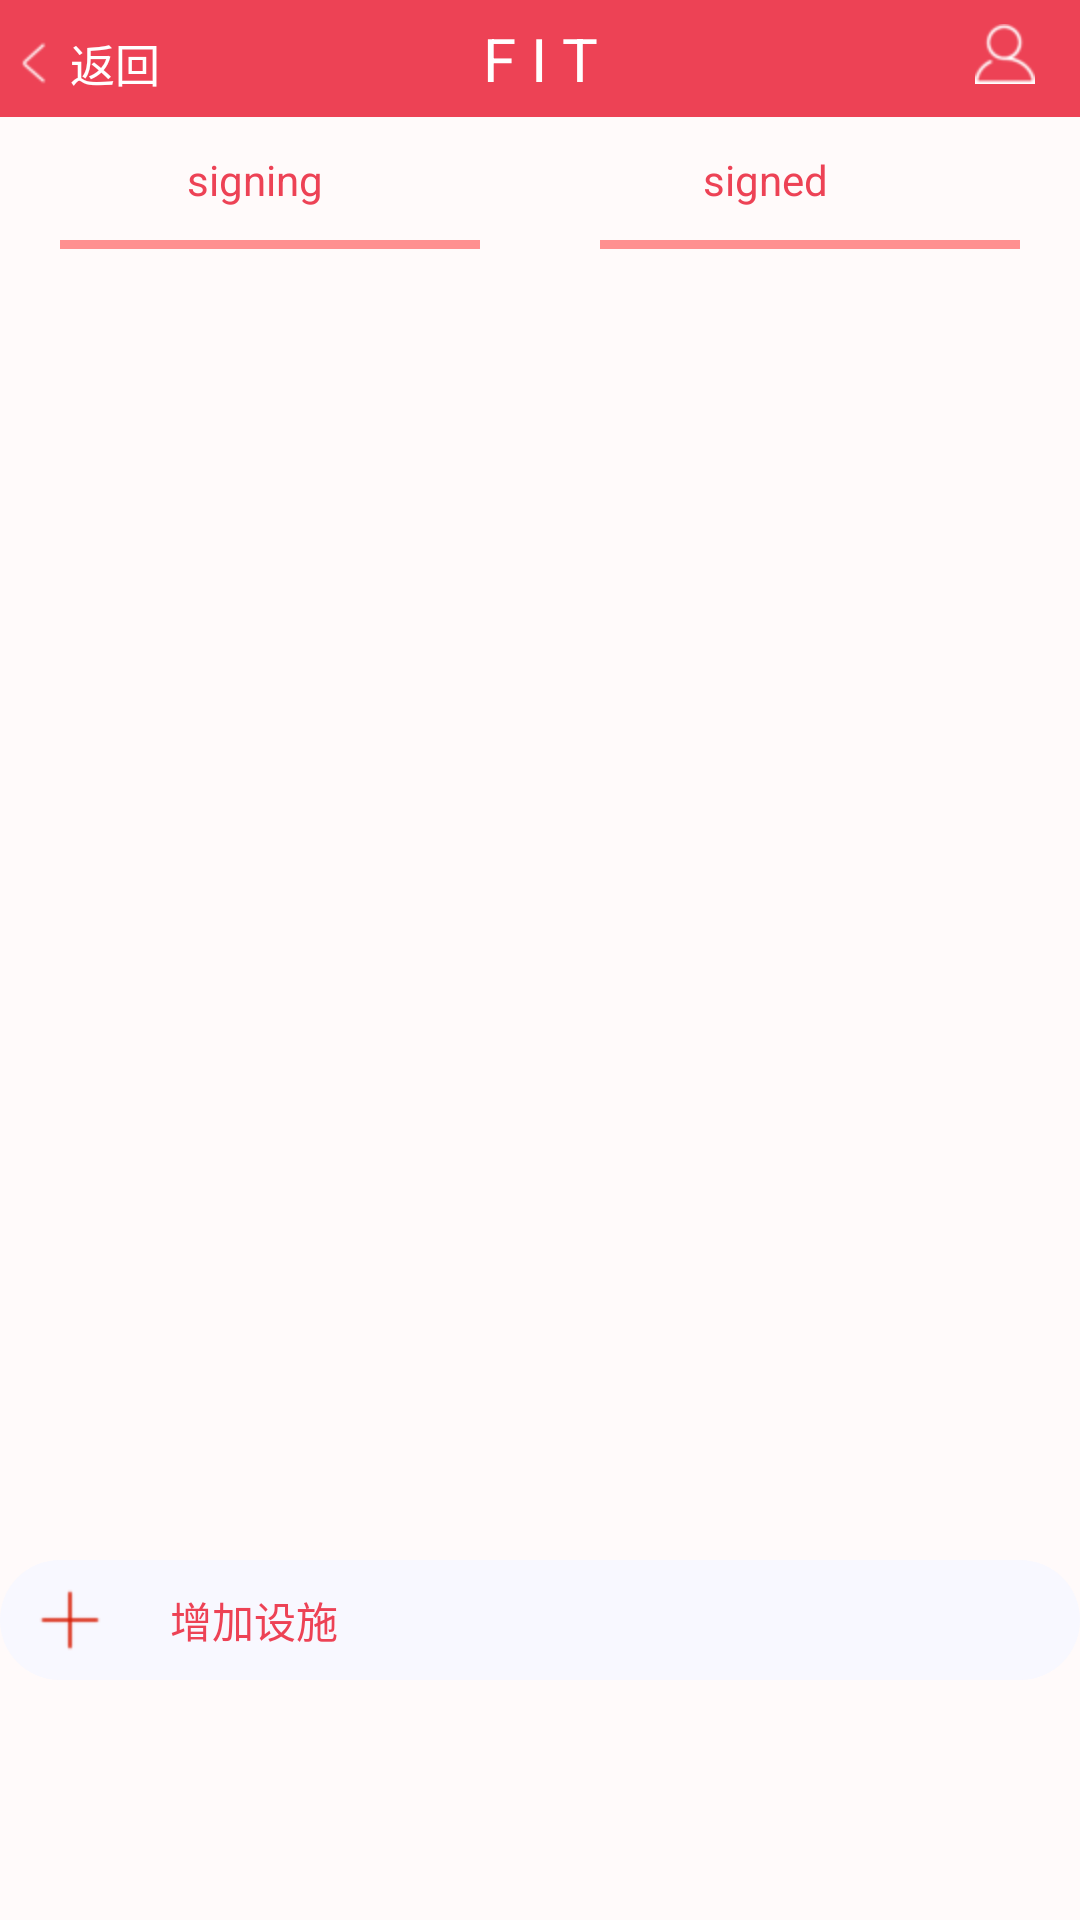

Icon bounding boxes for this 1080px x 1920px phone screenshot, format (x1, y1, x2, y2):
user: (975, 24, 1035, 84)
